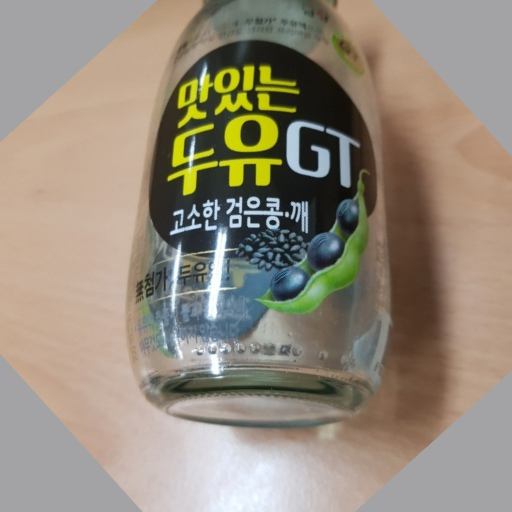Glass_4: (127, 1, 398, 429)
